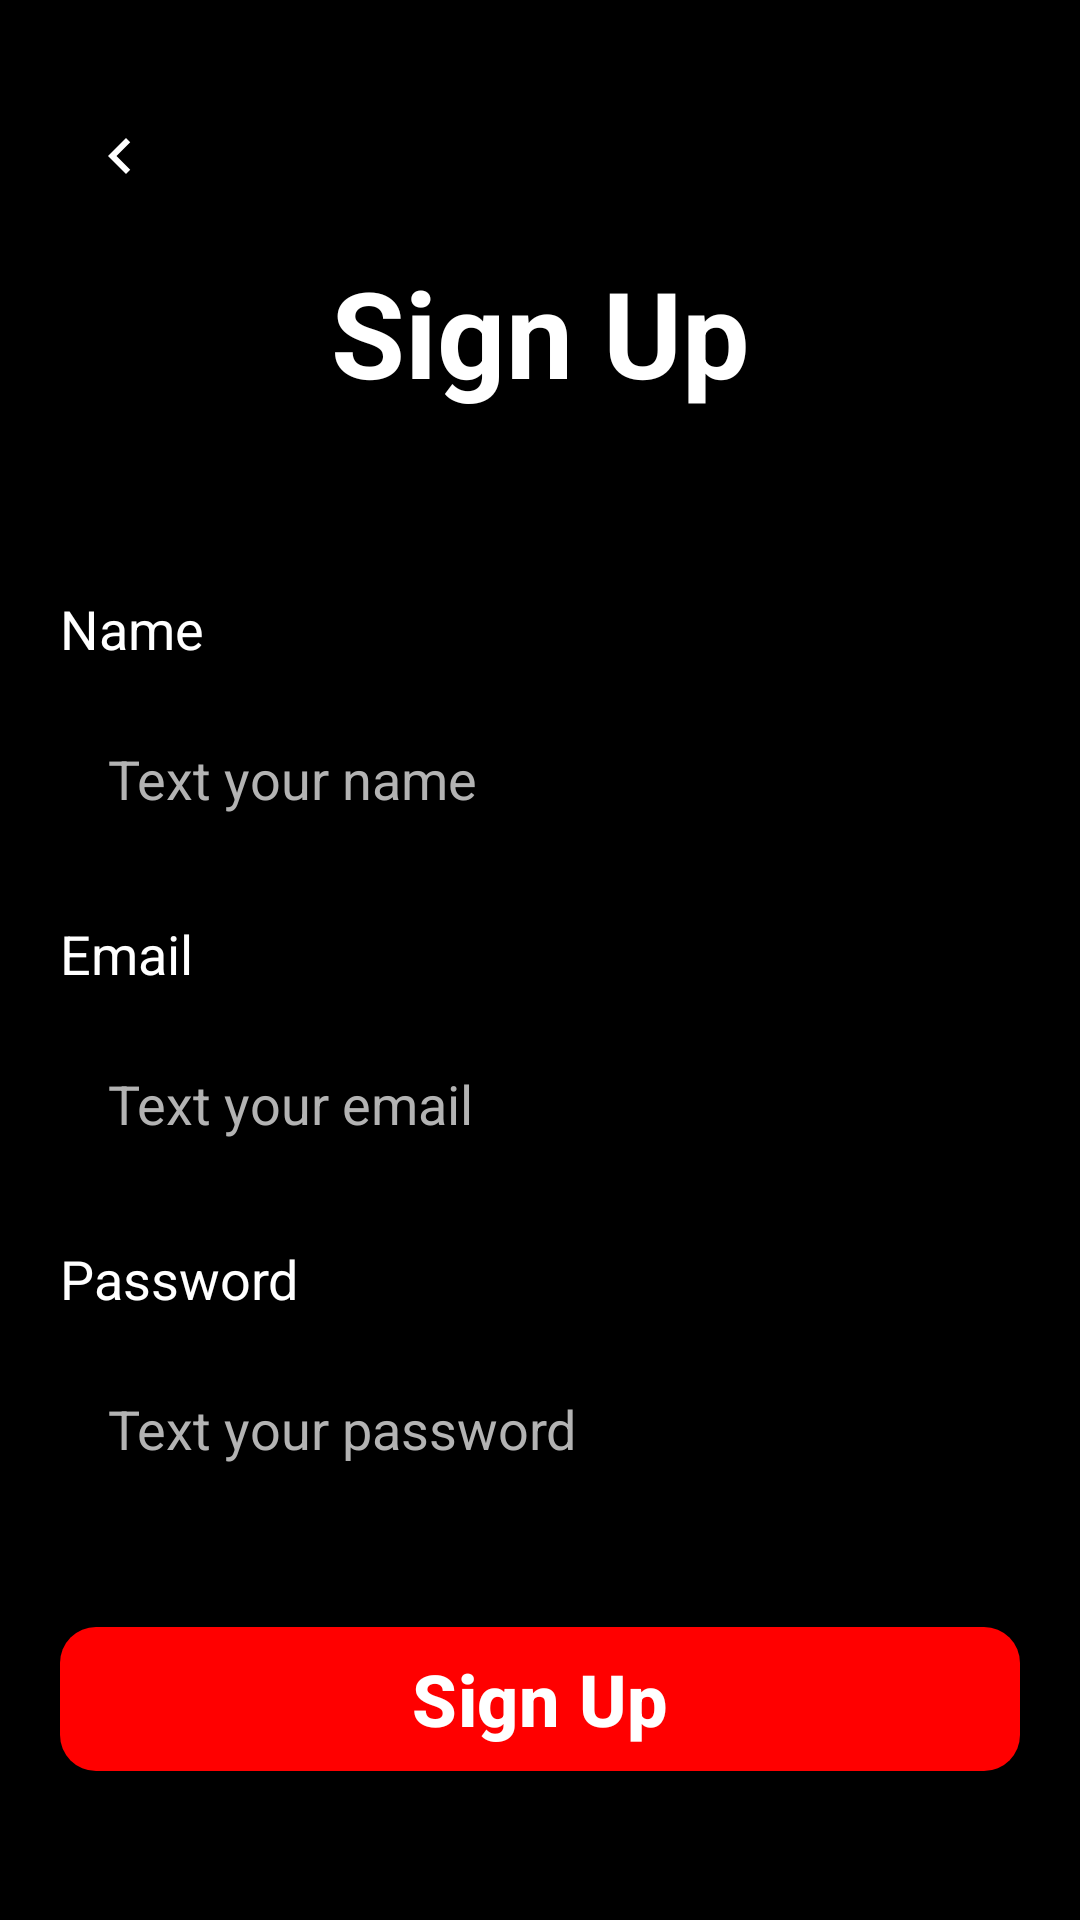

Named icons in this screenshot (1080px x 1920px) and their bounding boxes, (x1, y1, x2, y2):
Go back: (108, 138, 130, 174)
